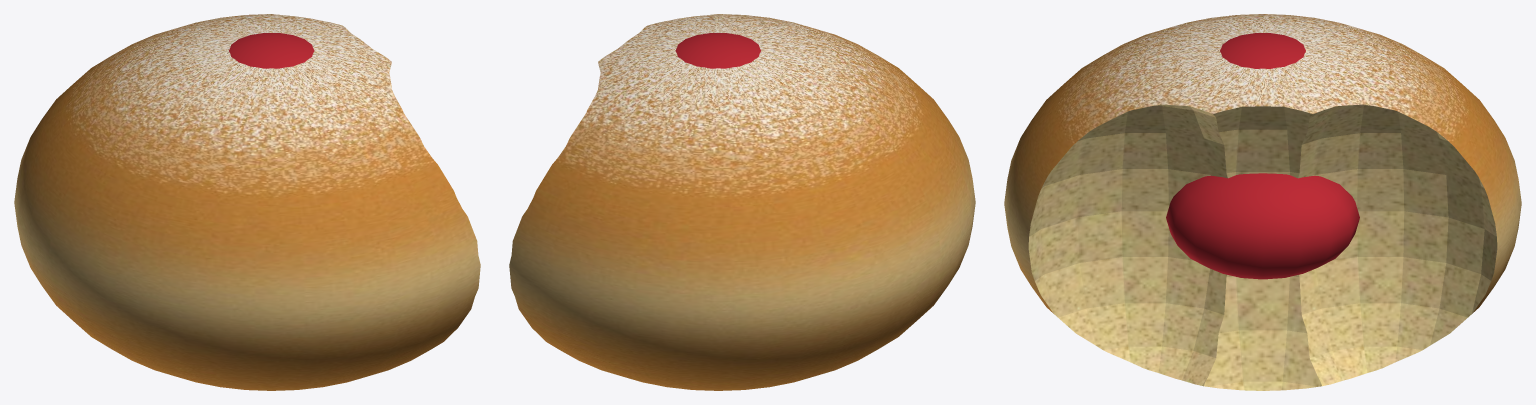
Rendered from sufganiya_bite1.glb.
3 renders of one model, left to right at view 1: azimuth 30°, elevation 25°; view 2: azimuth 150°, elevation 25°; view 3: azimuth 270°, elevation 25°, orthographic.
Parts seen in each view (by area): view 1: Sufganiya_Bite1, Sufganiya_Bite1_JamDot; view 2: Sufganiya_Bite1, Sufganiya_Bite1_JamDot; view 3: Sufganiya_Bite1, Sufganiya_Bite1_JamCore, Sufganiya_Bite1_JamDot.
Part boxes in pixels (x1,y1,x2,y2): Sufganiya_Bite1: (14,14,480,390); Sufganiya_Bite1_JamDot: (229,33,314,68); Sufganiya_Bite1: (509,14,975,390); Sufganiya_Bite1_JamDot: (675,33,760,68); Sufganiya_Bite1: (1004,14,1521,390); Sufganiya_Bite1_JamCore: (1166,173,1359,279); Sufganiya_Bite1_JamDot: (1220,33,1305,68).
Bounding box in the file's own units: 0.0675 × 0.059 × 0.088.
3 materials, 2 textured.
